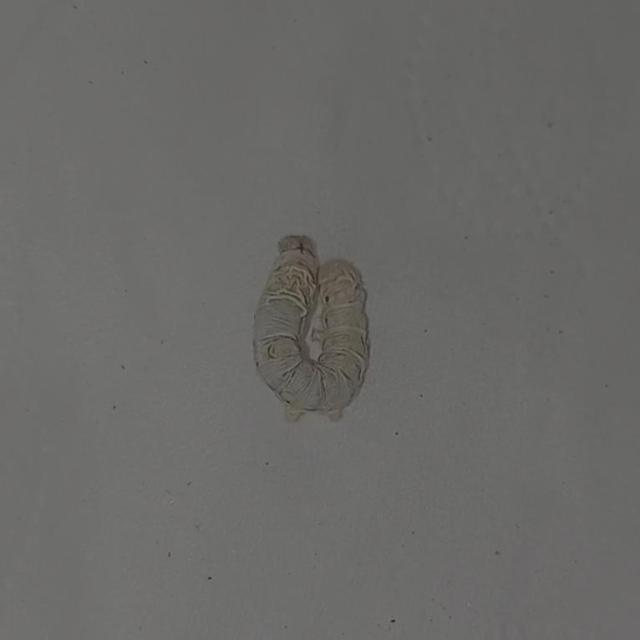Healthy: (241, 224, 382, 431)
